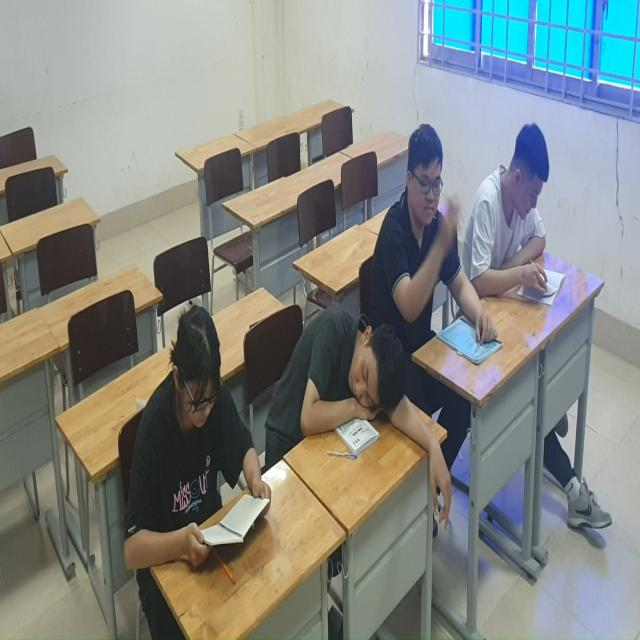raise_hand: (374, 123, 469, 361)
read: (123, 296, 275, 615), (472, 117, 571, 312)
sleep: (273, 305, 457, 528)
